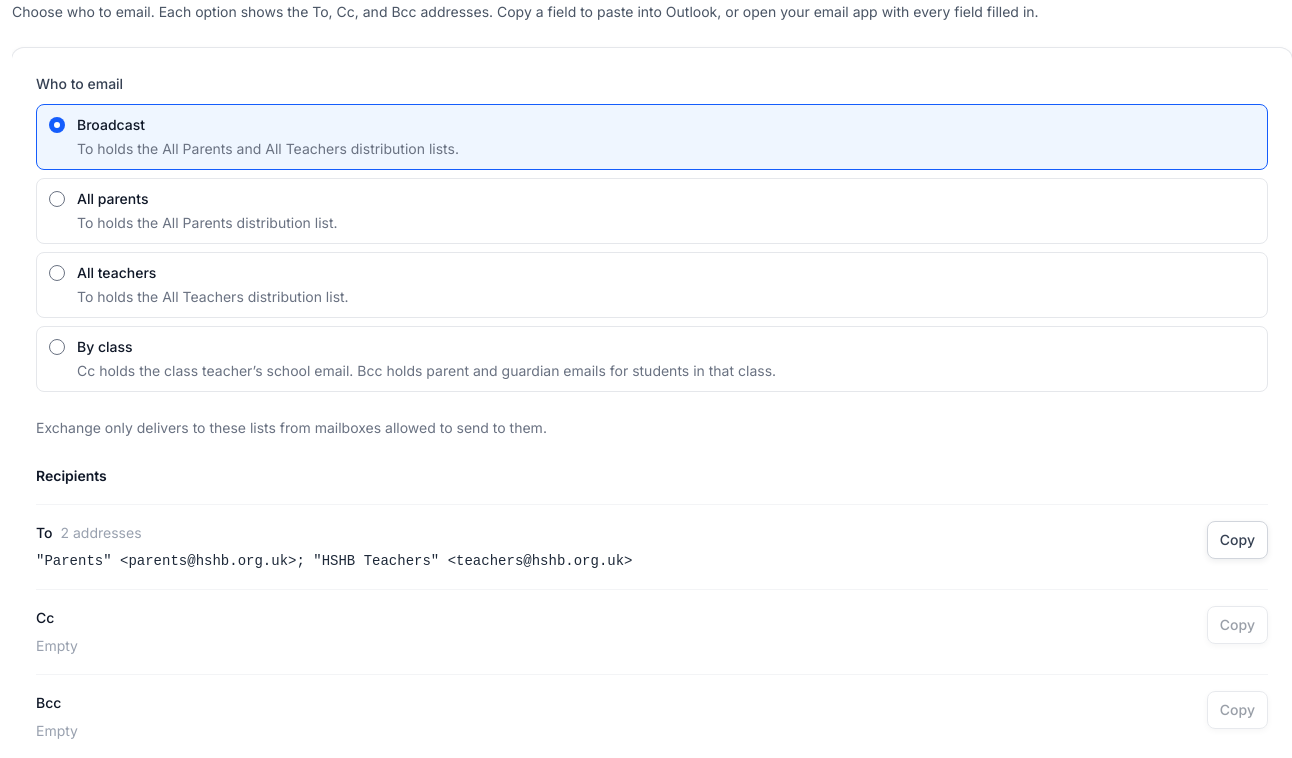
Test: CommunicationPanel › tells the user to copy when a mailto link would be too long
Click the radio button labelled "By class" at (57, 347), box [49, 339, 65, 355]
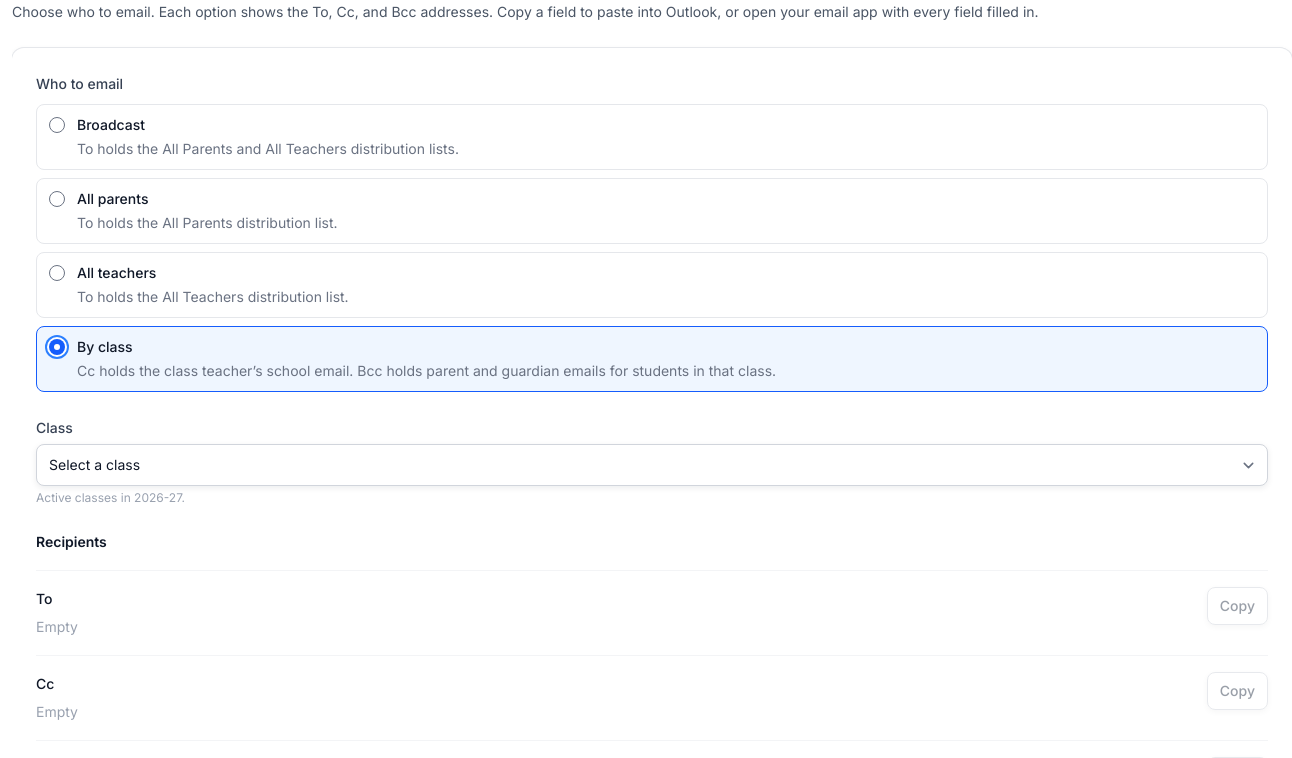
Select "Year 3" in the dropdown labelled "Class" at (652, 465), box [36, 444, 1268, 486]
(page scrolled)
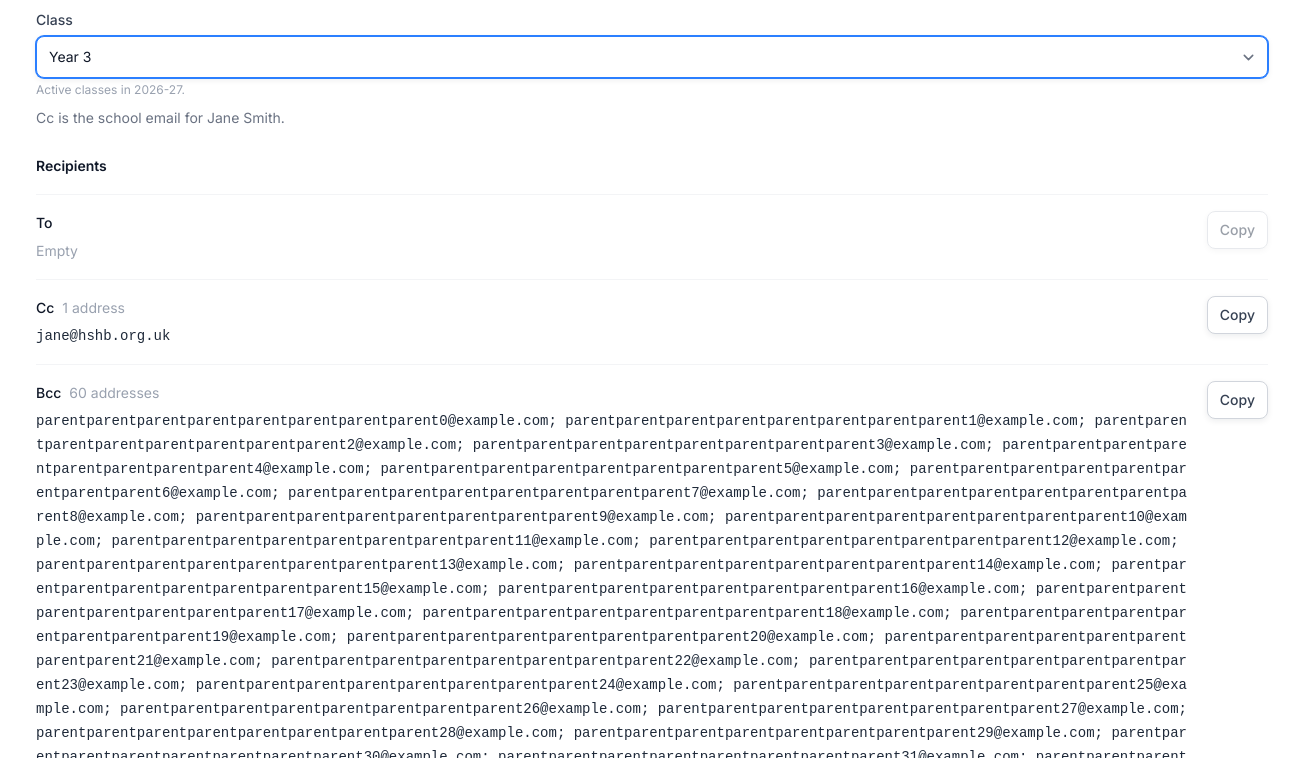
Expected: the link "Open in email" is not shown
Expected: the button with aria-label "Copy Bcc" is enabled, [1207, 381, 1268, 419]
